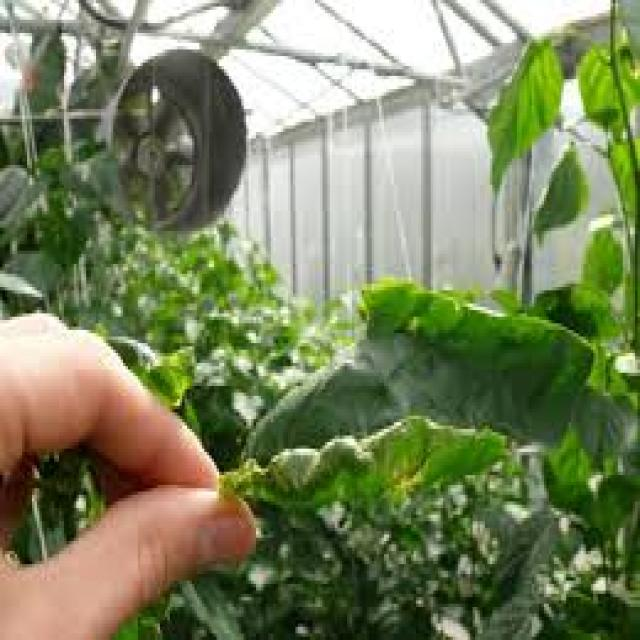Mosaic_virus: (251, 283, 640, 640)
